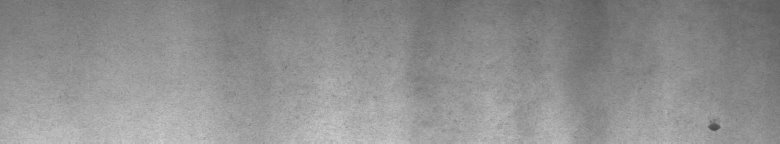fi: (703, 112, 724, 136)
